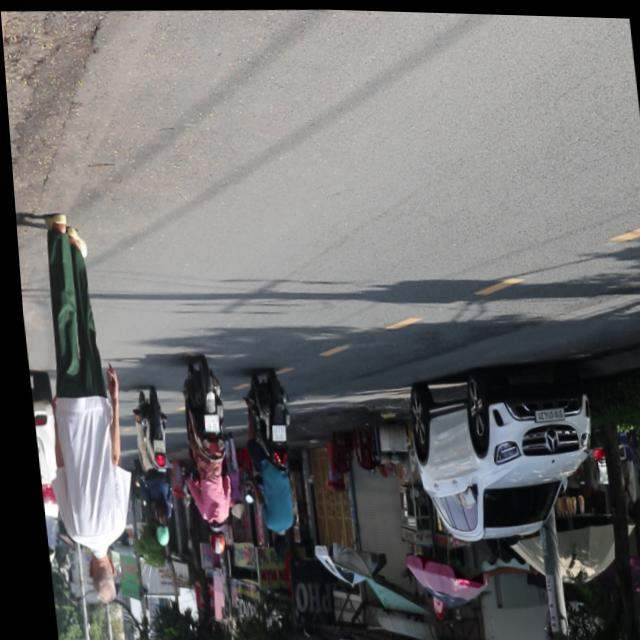helmet: (200, 520, 221, 556)
licenseplate: (233, 367, 299, 564), (169, 356, 234, 556)
motorcyclist: (263, 530, 283, 561)
nohelmet: (197, 414, 213, 432), (265, 424, 281, 440)
